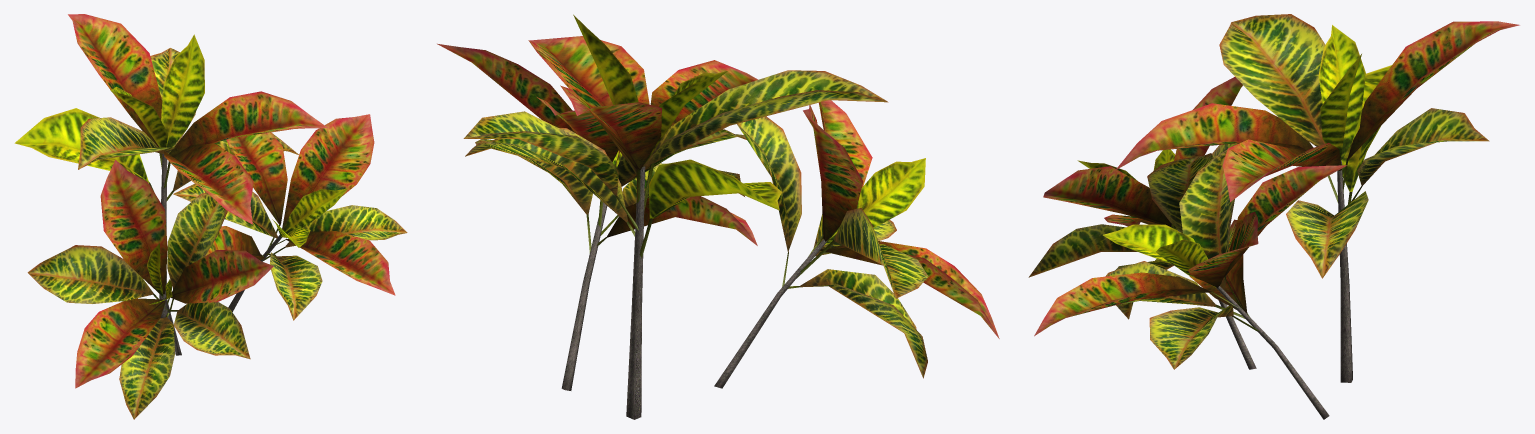
Rendered from Croton_C_m.FBX.
The picture shows the model from 3 angles, left to right: view 1: azimuth 30°, elevation 25°; view 2: azimuth 150°, elevation 25°; view 3: azimuth 270°, elevation 25°; orthographic projection. The views are drawn at different scales.
Parts seen in each view (by area): view 1: Croton_C_02, Croton_C_01, Croton_C_03; view 2: Croton_C_01, Croton_C_02, Croton_C_03; view 3: Croton_C_01, Croton_C_03, Croton_C_02.
Boxes of the visible parts, box(x1,y1,x2,y2) form: Croton_C_02: box(27, 160, 273, 419); Croton_C_01: box(14, 14, 327, 318); Croton_C_03: box(173, 114, 407, 320); Croton_C_01: box(463, 14, 888, 419); Croton_C_02: box(714, 100, 999, 388); Croton_C_03: box(437, 43, 757, 390); Croton_C_01: box(1115, 14, 1519, 382); Croton_C_03: box(1034, 145, 1346, 419); Croton_C_02: box(1028, 77, 1256, 369).
Bounding box in the file's own units: 110 × 85.5 × 106.
